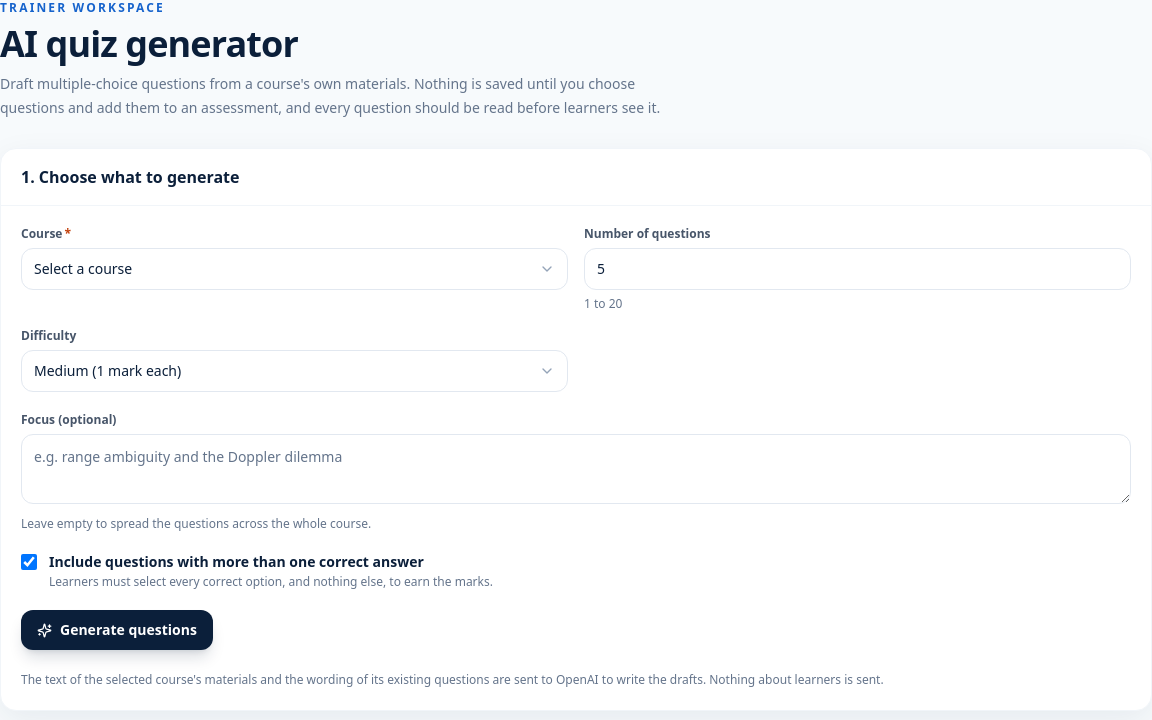
AI quiz generator › shows why nothing could be drafted
This screenshot has width=1152, height=720.
Select "Doppler Radar Analysis" in the dropdown labelled "Course*" at (294, 269), box [21, 248, 568, 290]
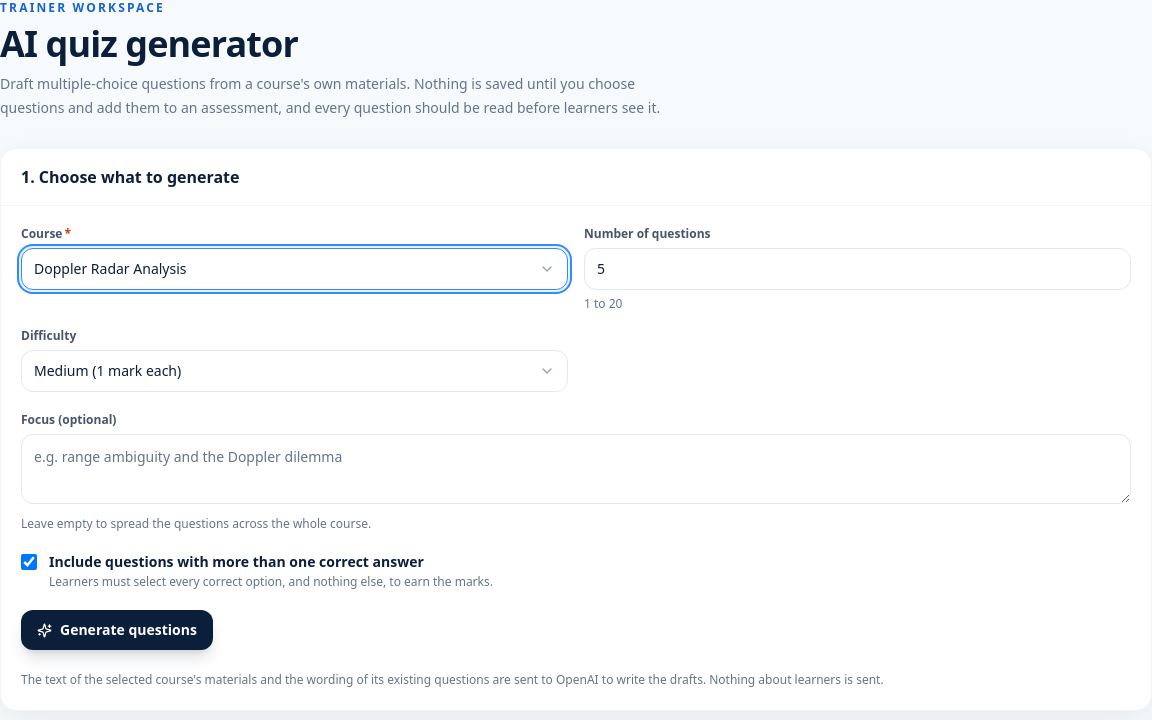
Click the button "Generate questions".
click(117, 630)  # box [21, 610, 213, 650]
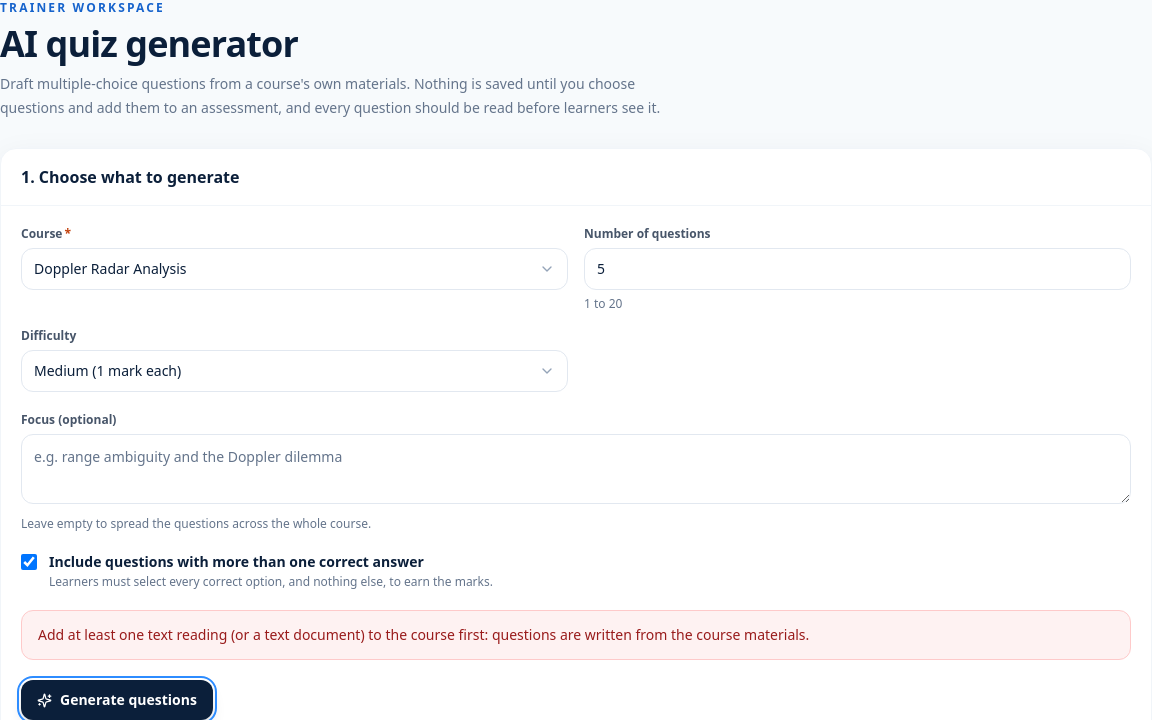
Expected: the message shows "Add at least one text reading", [38, 625, 809, 644]
